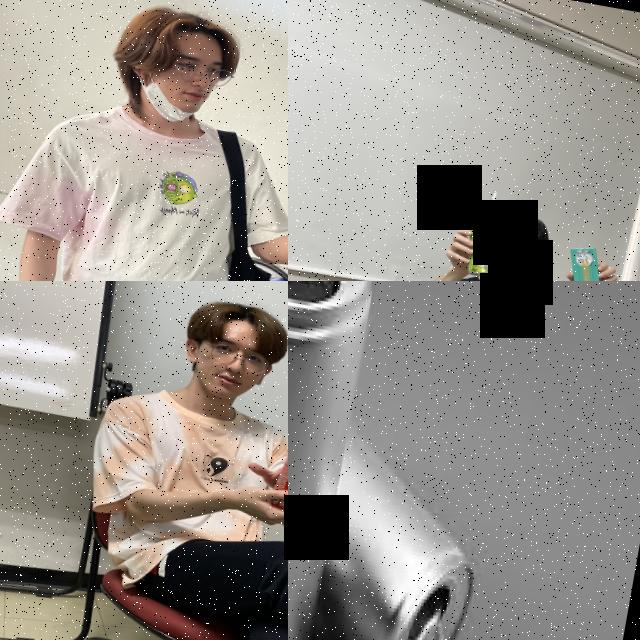can: (294, 417, 495, 640), (288, 281, 381, 640), (461, 222, 503, 280), (267, 440, 288, 516)
